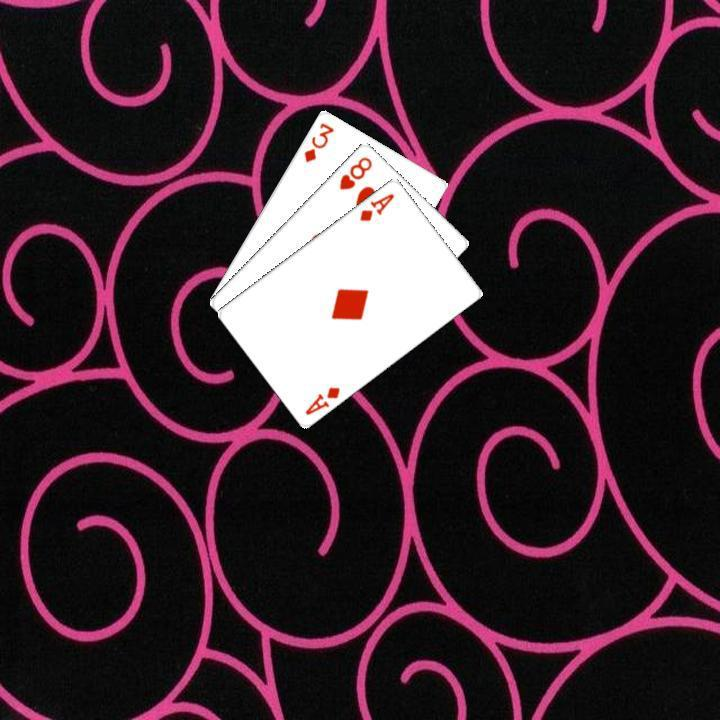3: (299, 118, 336, 164)
8: (335, 152, 374, 191)
A: (355, 188, 397, 223), (301, 382, 342, 417)
